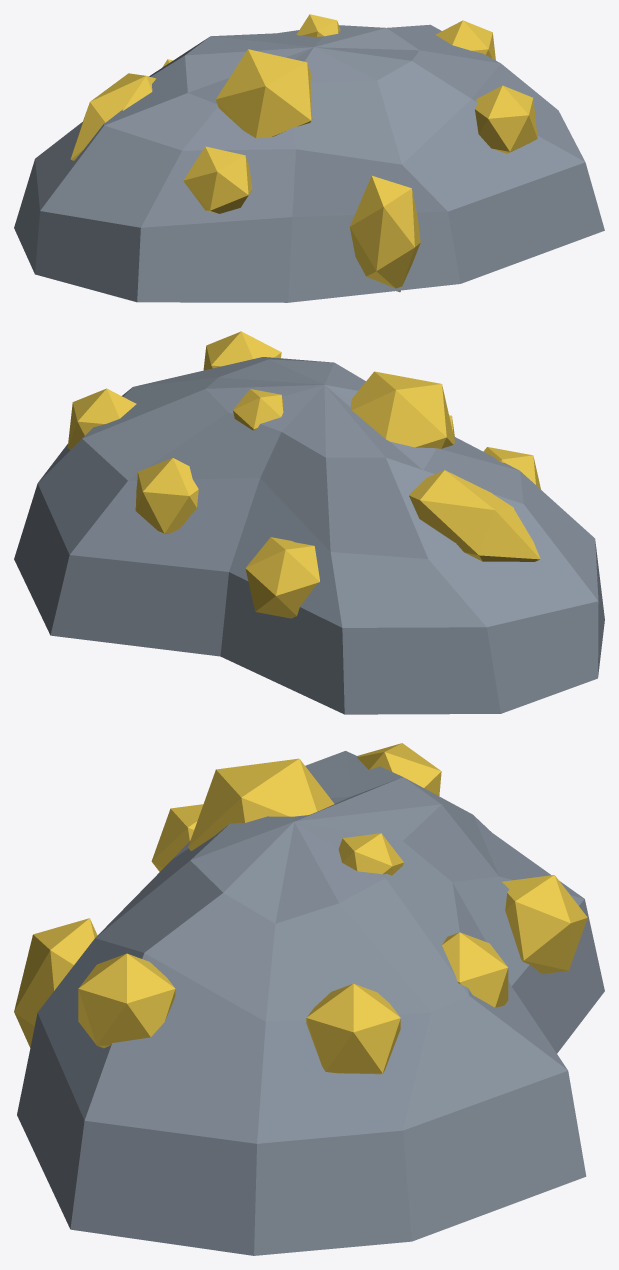
Rendered from goldMine.fbx.
3 views of the same model, one above another, from view 1: azimuth 30°, elevation 25°; view 2: azimuth 150°, elevation 25°; view 3: azimuth 270°, elevation 25° (orthographic). The views are drawn at different scales.
Visible parts, largest first — view 1: Sphere, Icosphere.008; view 2: Sphere, Icosphere.008; view 3: Sphere, Icosphere.008.
Boxes of the visible parts, bbox=[...] form: Sphere: bbox=[14, 24, 604, 302]; Icosphere.008: bbox=[70, 14, 537, 292]; Sphere: bbox=[14, 357, 604, 714]; Icosphere.008: bbox=[67, 331, 540, 618]; Sphere: bbox=[17, 751, 604, 1255]; Icosphere.008: bbox=[14, 743, 587, 1074].
Bounding box in the file's own units: 402 × 147 × 280.
